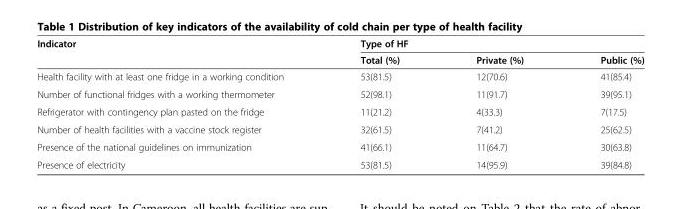table: (36, 37, 643, 170)
table column: (36, 37, 321, 170), (437, 37, 561, 170), (321, 37, 437, 170), (561, 37, 643, 170)
table column header: (36, 37, 643, 67)
table row: (36, 67, 643, 85), (36, 102, 643, 120), (36, 137, 643, 155), (36, 85, 643, 102), (36, 120, 643, 137), (36, 51, 643, 67), (36, 155, 643, 170), (36, 37, 643, 51)
table spanning cell: (36, 37, 321, 67), (321, 37, 643, 51)
